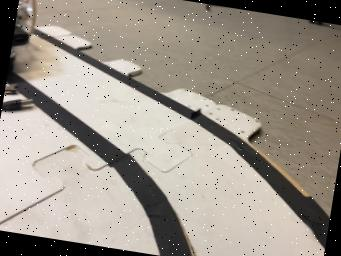street: (0, 38, 328, 256), (0, 38, 328, 256), (0, 38, 328, 256), (0, 38, 328, 256), (0, 38, 328, 256), (0, 38, 328, 256), (33, 30, 329, 248), (33, 30, 329, 248), (33, 30, 329, 248), (33, 30, 329, 248), (33, 30, 329, 248), (33, 30, 329, 248)
